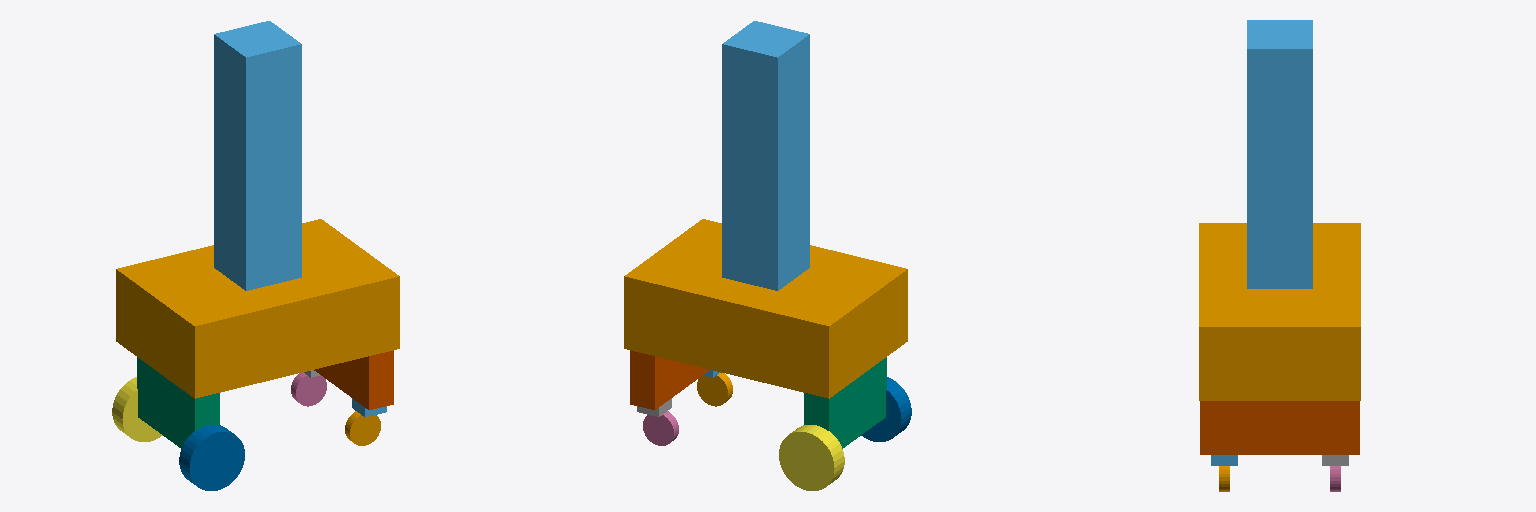
robot.urdf — iggy:
<?xml version="1.0"?>
<robot name="iggy" xmlns:xacro="http://www.ros.org/wiki/xacro">

<!-- rosrun gazebo_ros spawn_model -urdf -file `rospack find iggy_description`/urdf/iggy2.urdf -z 1 -model iggy1  -->
<!--body -->
    <link name="base_link">
        <visual>
            <geometry>
                <box size="0.92 0.61 0.31"/>
            </geometry>
        </visual>
        <collision>
            <geometry>
                <box size="0.92 0.61 0.31"/>
            </geometry>
        </collision>
        <inertial>
            <mass value="25.0"/>
            <inertia ixx="2.2666833333"  ixy="0"  ixz="0" iyy="5.3094333333" iyz="0" izz="5.3094333333" />
        </inertial>
    </link>
    
    <link name="mast">
        <visual>
            <geometry>
                <box size="0.25 0.25 1.01"/>
            </geometry>
        </visual>
        <collision>
            <geometry>
                <box size="0.25 0.25 1.01"/>
            </geometry>
        </collision>
        <inertial>
            <mass value="1.0"/>
            <inertia ixx="0.0108333333"  ixy="0"  ixz="0" iyy="1.0209333333" iyz="0" izz="1.0209333333" />
        </inertial>
    </link>
    <joint name="mast_to_base_link" type="fixed">
        <parent link="base_link"/>
        <child link="mast"/>
        <origin xyz="0 0 0.65" rpy="0 0 0"/>
    </joint>
    <gazebo reference="mast">
        <material>Gazebo/Orange</material>
    </gazebo>
<!--Wheel Base Back -->
    <link name="back_wheel_base">
        <visual>
            <geometry>
                <box size="0.11 0.45 0.315"/>
            </geometry>
        </visual>
        <collision>
            <geometry>
                <box size="0.11 0.45 0.315"/>
            </geometry>
        </collision>
        <inertial>
            <mass value="25"/>
            <inertia ixx="0.433975" ixy="0.0" ixz="0.0" iyy="0.5211" iyz="0.0" izz="0.1244333333"/>
        </inertial> 
    </link>
    <joint name="back_wheel_base_to_base_link" type="fixed">
        <parent link="base_link"/>
        <child link="back_wheel_base"/>
        <origin xyz="-0.355 0 -0.30" rpy="0 0 0"/>
    </joint>
    <gazebo reference="back_wheel_base">
        <material>Gazebo/Black</material>
    </gazebo>

<!--back left wheels -->
    <link name="blwheel">
        <visual>
            <origin xyz="0 0 0" rpy="1.570796 0 0" />
            <geometry>
                <cylinder length="0.08" radius="0.125"/>
            </geometry>
        </visual>
        <collision>
            <origin xyz="0 0 0" rpy="1.570796 0 0" />
            <geometry>
                <cylinder length="0.08" radius="0.125"/>
            </geometry>
        </collision>
        <inertial>
            <mass value="1"/>
            <inertia ixx="0.00550625" ixy="0.0" ixz="0.0" iyy="0.00550625" iyz="0.0" izz="0.0078125"/>
        </inertial>
    </link>
    <joint name="back_wheel_base_to_blwheel" type="continuous">
        <parent link="back_wheel_base"/>
        <child link="blwheel"/>
        <axis xyz="0 1 0" />
        <origin xyz="0 0.26 -0.15" rpy="0 0 0"/>
    </joint>
    <gazebo reference="blwheel">
        <material>Gazebo/Green</material>
    </gazebo>

<!--back right wheels -->
    <link name="brwheel">
        <visual>
            <origin xyz="0 0 0" rpy="1.570796 0 0" />
            <geometry>
                <cylinder length="0.08" radius="0.125"/>
            </geometry>
        </visual>
        <collision>
            <origin xyz="0 0 0" rpy="1.570796 0 0" />
            <geometry>
                <cylinder length="0.08" radius="0.125"/>
            </geometry>
        </collision>
        <inertial>
            <mass value="1"/>
            <inertia ixx="0.00550625" ixy="0.0" ixz="0.0" iyy="0.00550625" iyz="0.0" izz="0.0078125"/>
        </inertial>
    </link>
    <joint name="back_wheel_base_to_brwheel" type="continuous">
        <parent link="back_wheel_base"/>
        <child link="brwheel"/>
        <axis xyz="0 1 0" />
        <origin xyz="0 -0.26 -0.15" rpy="0 0 0"/>
    </joint>
    <gazebo reference="brwheel">
        <material>Gazebo/Red</material>
    </gazebo>

<!--Wheel Base Front -->
    <link name="front_wheel_base">
        <visual>
            <geometry>
                <box size="0.11 0.60 0.25"/>
            </geometry>
        </visual>
        <collision>
            <geometry>
                <box size="0.11 0.60 0.25"/>
            </geometry>
        </collision>
        <inertial>
            <mass value="25"/>
            <inertia ixx="0.433975" ixy="0.0" ixz="0.0" iyy="0.5211" iyz="0.0" izz="0.1244333333"/>
        </inertial> 
    </link>
    <joint name="front_wheel_base_to_base_link" type="fixed">
        <parent link="base_link"/>
        <child link="front_wheel_base"/>
        <origin xyz="0.38 0 -0.265" rpy="0 0 0"/>
    </joint>
    <gazebo reference="front_wheel_base">
        <material>Gazebo/Turquoise</material>
    </gazebo>
    
<!--Caster Front Left Wheel -->
    <link name="cflwheel">
        <visual>
            <origin rpy="1.57079632679 0 0" xyz="0 0 0"/>
            <geometry>
                <cylinder length="0.04" radius="0.07"/>
            </geometry>      
        </visual>
        <collision>
            <origin rpy="1.57079632679 0 0" xyz="0 0 0"/>
            <geometry>
                <cylinder length="0.04" radius="0.07"/>
            </geometry>
        </collision>
        <inertial>
            <mass value="0.5"/>
            <inertia ixx="0.0008125" ixy="0.0" ixz="0.0" iyy="0.0008125" iyz="0.0" izz="0.001225"/>
        </inertial>
    </link>  
    <joint name="front_left_wheel_joint" type="continuous">
        <parent link="cfl_pivotplate"/>
        <child link="cflwheel"/>
        <origin xyz="-0.03 0 -0.093" rpy="0 0 0"/>
        <axis xyz="0 1 0"/>
    </joint>
    <gazebo reference="cflwheel">
        <material>Gazebo/Blue</material>
    </gazebo>

<!--Caster Front Left Pivot Plate -->
    <link name="cfl_pivotplate">
        <visual>
            <geometry>
                <box size="0.1 0.1 0.05"/>
            </geometry>
        </visual>
        <collision>
            <geometry>
                <box size="0.1 0.1 0.05"/>
            </geometry>
        </collision>
        <inertial>
            <mass value="0.5"/>
            <inertia ixx="0.0104166667" ixy="0.0" ixz="0.0" iyy="0.0029166667" iyz="0.0" izz="0.0029166667"/>
        </inertial>
    </link>
    <joint name="cfl_pivot_joint" type="continuous">
        <parent link="front_wheel_base"/>
        <child link="cfl_pivotplate"/>
        <origin xyz="0 0.21 -0.147" rpy="0 0 0"/>
        <axis rpy="0 0 0" xyz="0 0 1"/>
    </joint>
    <gazebo reference="pivotplate">
        <material>Gazebo/Orange</material>
    </gazebo>

<!--Caster Front Right Wheel -->
    <link name="cfrwheel">
        <visual>
            <origin rpy="1.57079632679 0 0" xyz="0 0 0"/>
            <geometry>
                <cylinder length="0.04" radius="0.07"/>
            </geometry>      
        </visual>
        <collision>
            <origin rpy="1.57079632679 0 0" xyz="0 0 0"/>
            <geometry>
                <cylinder length="0.04" radius="0.07"/>
            </geometry>
        </collision>
        <inertial>
            <mass value="0.5"/>
            <inertia ixx="0.0008125" ixy="0.0" ixz="0.0" iyy="0.0008125" iyz="0.0" izz="0.001225"/>
        </inertial>
    </link>
    <joint name="front_right_wheel_joint" type="continuous">
        <parent link="cfr_pivotplate"/>
        <child link="cfrwheel"/>
        <origin xyz="-0.03 0 -0.0925" rpy="0 0 0"/>
        <axis rpy="0 0 0" xyz="0 1 0"/>
    </joint>
    <gazebo reference="cfrwheel">
        <material>Gazebo/Red</material>
    </gazebo>
<!--Caster Front Left Pivot Plate -->
    <link name="cfr_pivotplate">
        <visual>
            <geometry>
                <box size="0.1 0.1 0.05"/>
            </geometry>
        </visual>
        <collision>
            <geometry>
                <box size="0.1 0.1 0.05"/>
            </geometry>
        </collision>
        <inertial>
            <mass value="0.5"/>
            <inertia ixx="0.0104166667" ixy="0.0" ixz="0.0" iyy="0.0029166667" iyz="0.0" izz="0.0029166667"/>
        </inertial>
    </link>
    <joint name="cfr_pivot_joint" type="continuous">
        <parent link="front_wheel_base"/>
        <child link="cfr_pivotplate"/>
        <origin xyz="0 -0.21 -0.1475" rpy="0 0 0"/>
        <axis rpy="0 0 0" xyz="0 0 1"/>
    </joint>
    <gazebo reference="pivotplate">
        <material>Gazebo/Orange</material>
    </gazebo>

<!--Plugins -->
    <gazebo>
     <plugin name="differential_drive_controller" filename="libgazebo_ros_diff_drive.so">
          <rosDebugLevel>Debug</rosDebugLevel>
          <publishWheelTF>false</publishWheelTF>
          <robotNamespace>/</robotNamespace>
          <publishTf>1</publishTf>
          <publishWheelJointState>false</publishWheelJointState>
          <alwaysOn>true</alwaysOn>
          <updateRate>100.0</updateRate>
          <rightJoint>back_wheel_base_to_brwheel</rightJoint>
          <leftJoint>back_wheel_base_to_blwheel</leftJoint>
          <wheelSeparation>1.6</wheelSeparation>
          <wheelDiameter>1.6</wheelDiameter>
          <broadcastTF>1</broadcastTF>
          <wheelTorque>30</wheelTorque>
          <wheelAcceleration>1.8</wheelAcceleration>
          <commandTopic>cmd_vel</commandTopic>
          <odometryFrame>odom</odometryFrame> 
          <odometryTopic>odom</odometryTopic> 
          <robotBaseFrame>base_link</robotBaseFrame>
        </plugin>    
    </gazebo> 

</robot> 

--- What the picture shows (computed from the rendered views, not written in the file) ---
3 views of the same robot in one strip: view 1: azimuth 30°, elevation 25°; view 2: azimuth 150°, elevation 25°; view 3: azimuth 270°, elevation 25° (orthographic).
Model iggy with 10 links and 9 joints (6 continuous, 3 fixed), rooted at base_link, posed all joints at 0.
Visible links, largest first — view 1: base_link, mast, back_wheel_base, brwheel, front_wheel_base, blwheel, cfrwheel, cflwheel; view 2: base_link, mast, back_wheel_base, blwheel, front_wheel_base, brwheel, cflwheel, cfrwheel; view 3: base_link, mast, front_wheel_base.
Link boxes in pixels (x1=…): base_link: x1=116, y1=219, x2=399, y2=398; mast: x1=214, y1=21, x2=301, y2=290; back_wheel_base: x1=137, y1=357, x2=219, y2=448; brwheel: x1=179, y1=425, x2=244, y2=490; front_wheel_base: x1=314, y1=350, x2=393, y2=409; blwheel: x1=112, y1=377, x2=162, y2=441; cfrwheel: x1=345, y1=411, x2=380, y2=445; cflwheel: x1=291, y1=372, x2=326, y2=406; base_link: x1=624, y1=219, x2=907, y2=398; mast: x1=722, y1=21, x2=809, y2=290; back_wheel_base: x1=804, y1=357, x2=886, y2=448; blwheel: x1=779, y1=425, x2=844, y2=490; front_wheel_base: x1=630, y1=350, x2=709, y2=409; brwheel: x1=861, y1=377, x2=911, y2=441; cflwheel: x1=643, y1=411, x2=678, y2=445; cfrwheel: x1=697, y1=373, x2=732, y2=406; base_link: x1=1199, y1=223, x2=1360, y2=400; mast: x1=1247, y1=20, x2=1312, y2=288; front_wheel_base: x1=1200, y1=401, x2=1359, y2=454.
Size in the robot's own frame: 0.94 by 0.61 by 1.73 metres.
Geometry: primitives only (box / cylinder / sphere), no mesh files.
